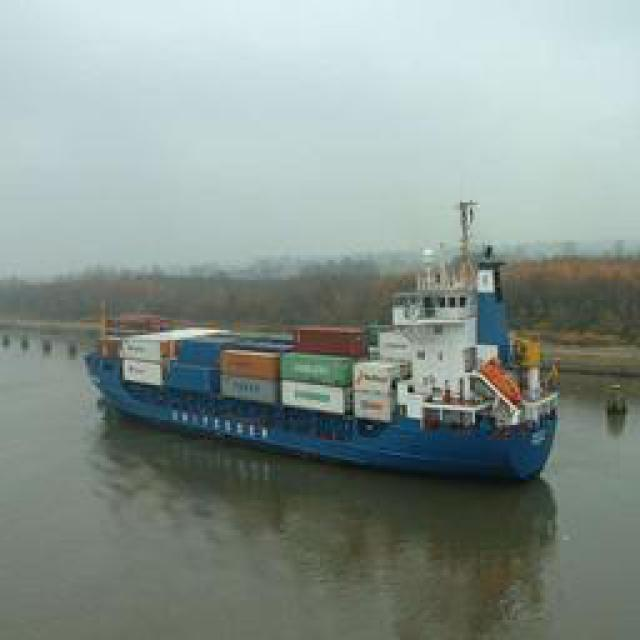Ship: (88, 232, 566, 482)
